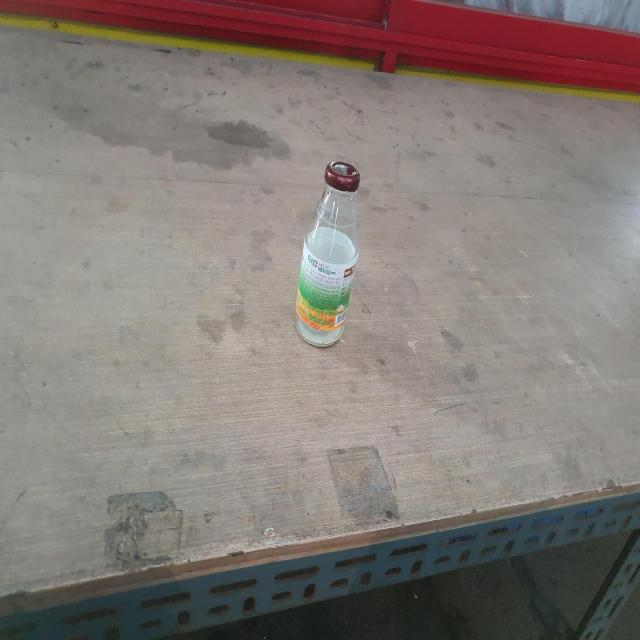glass: (296, 160, 360, 346)
